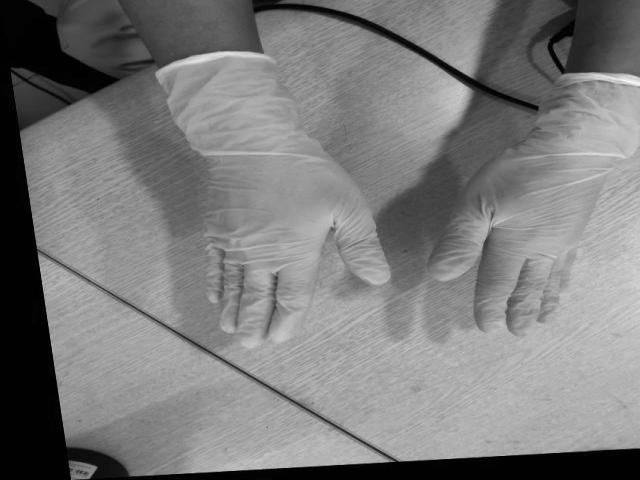gloved: (203, 140, 390, 342), (432, 141, 602, 337)
